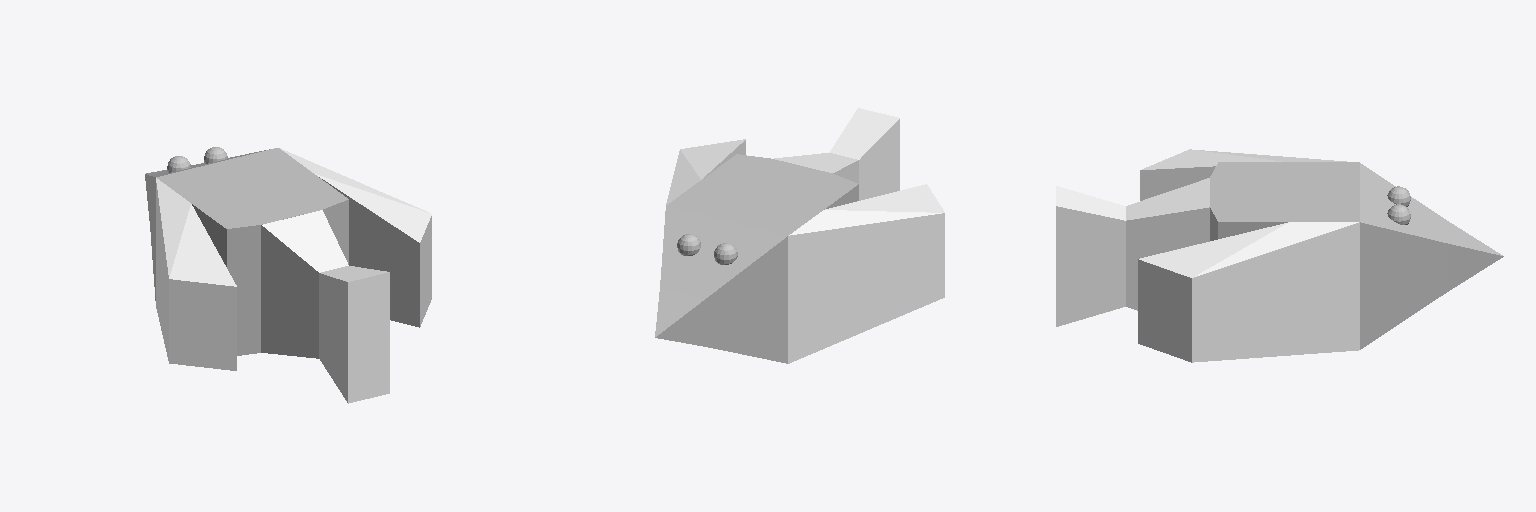
The model's file is generic_swimmer.obj.
3 views of the same model, side by side, from view 1: azimuth 30°, elevation 25°; view 2: azimuth 150°, elevation 25°; view 3: azimuth 270°, elevation 25° (orthographic).
Visible parts, largest first — view 1: Cube.001, Cube.004, Sphere.001_Sphere.000; view 2: Cube.001, Cube.004, tip_Cube.000, Sphere.001_Sphere.000; view 3: Cube.001, Cube.004, tip_Cube.000, Sphere.001_Sphere.000.
Part boxes in pixels (x1,y1,x2,y2): Cube.001: (156,148,431,403); Cube.004: (150,148,348,355); Sphere.001_Sphere.000: (167,147,227,172); Cube.001: (666,108,944,363); Cube.004: (660,154,858,363); tip_Cube.000: (655,289,704,346); Sphere.001_Sphere.000: (677,234,737,264); Cube.001: (1056,149,1359,362); Cube.004: (1210,162,1448,349); tip_Cube.000: (1449,222,1503,290); Sphere.001_Sphere.000: (1387,186,1410,224).
Size of the model in its own units: 4.31 by 2 by 6.34.